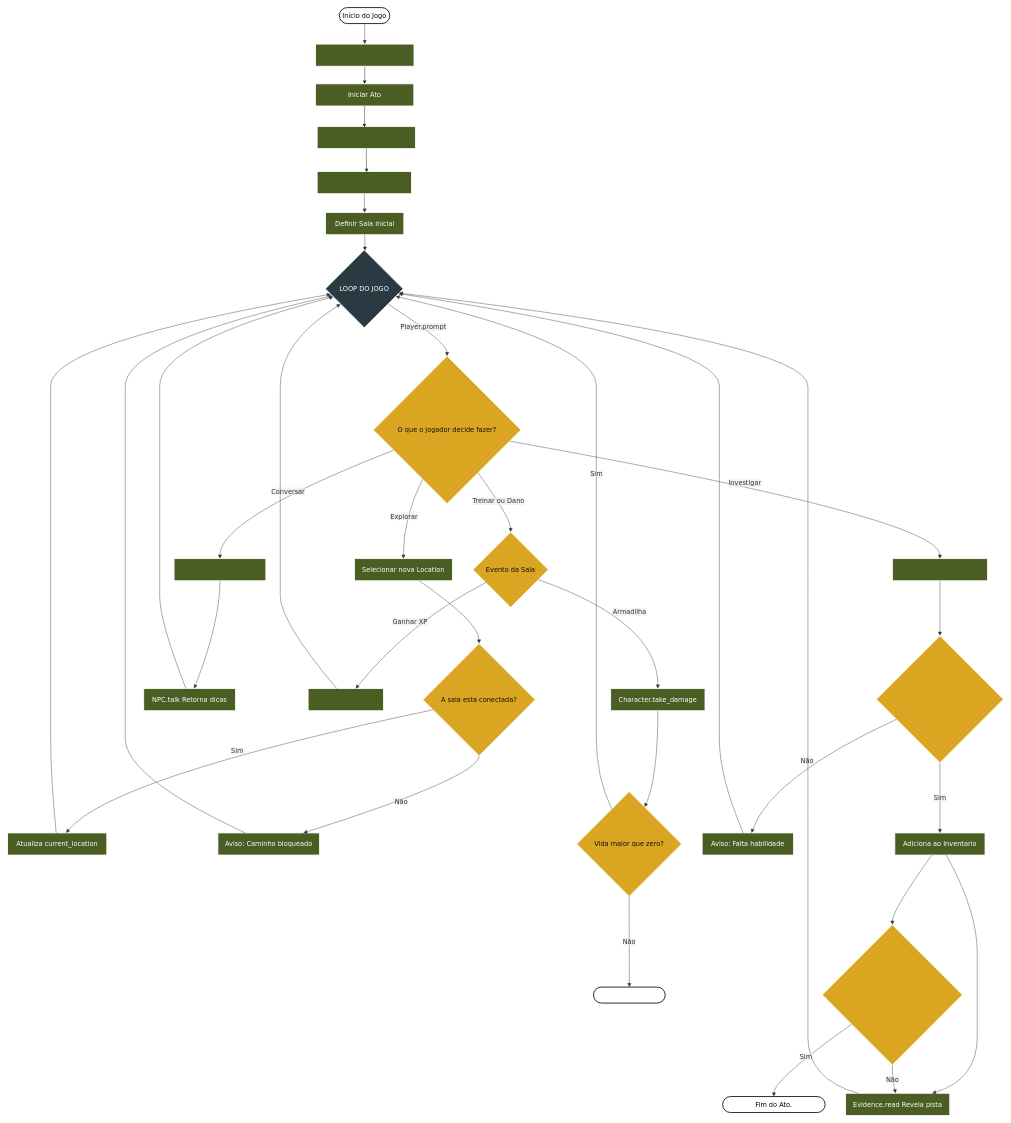
The diagram is 1011 pixels wide and 1123 high, and some of its shapes have lost their labels. Each missing label, with the box of its shape:
Ability.increment: (308, 688, 384, 711)
Buscar Evidence na Sala: (892, 558, 988, 581)
Carregar Locations e NPCs: (317, 126, 416, 149)
Coletou todas as Evidencias?: (822, 924, 963, 1065)
Define o Detetive Harry: (317, 171, 412, 194)
Fim de Jogo: Derrota: (593, 986, 665, 1003)
Instanciar Game e Player: (315, 43, 414, 66)
Nivel atende ao required?: (876, 635, 1004, 763)
Selecionar NPC na Sala: (173, 558, 266, 581)
